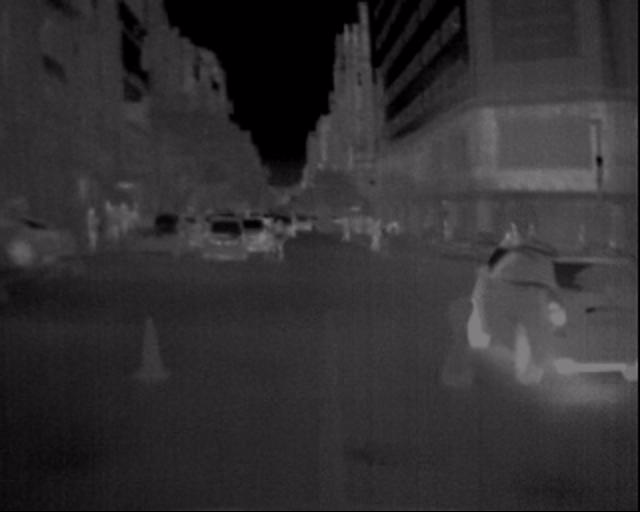person: (103, 192, 137, 249), (73, 202, 105, 260), (255, 211, 284, 262), (363, 212, 391, 259), (266, 214, 291, 264), (122, 196, 145, 232)
